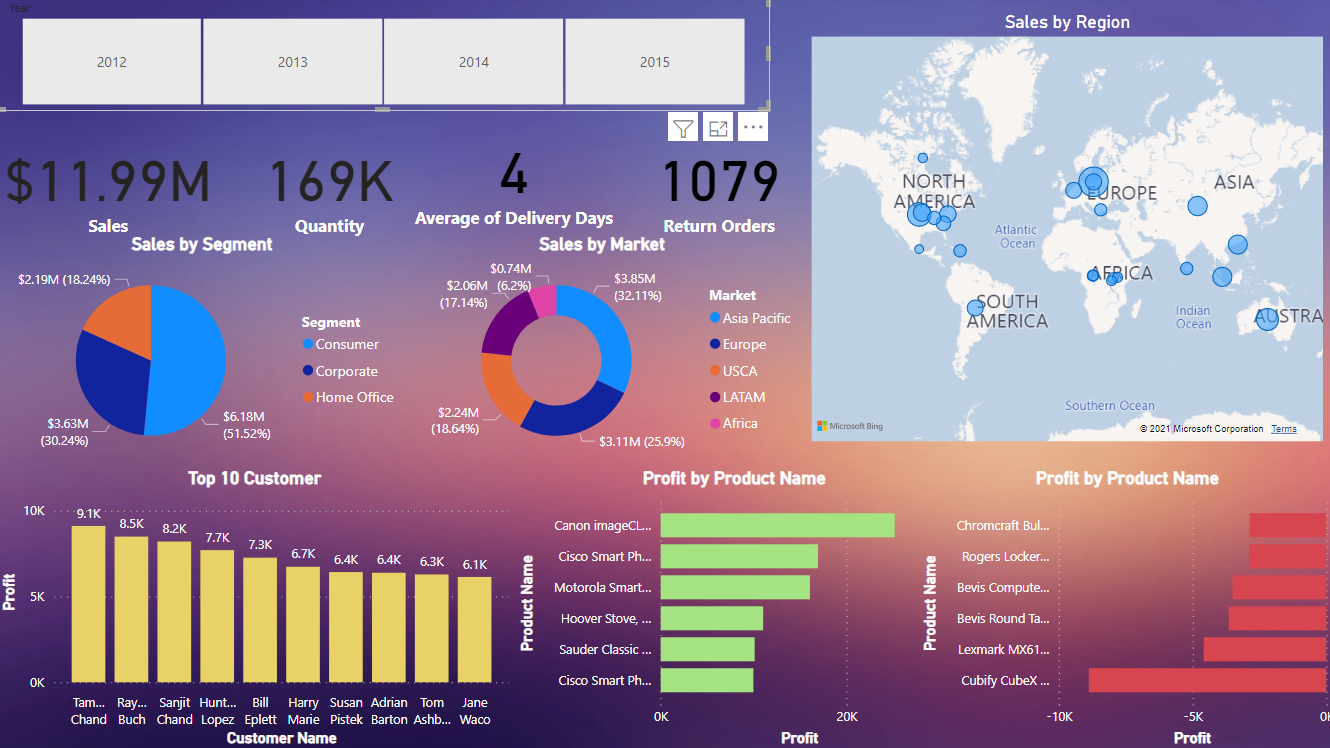

Layout of this report page (visuals, bound fields, positions):
{"tool":"powerbi","page":{"name":"Page 1","canvas":[1280,720],"ordinal":0},"visuals":[{"type":"card","fields":{"Values":["Orders.Sales"]},"box":[0,125,215.6,109.9],"z":0},{"type":"card","fields":{"Values":["Orders.Quantity"]},"box":[233.5,125,170.3,109.9],"z":1000},{"type":"card","fields":{"Values":["Orders.Delivery Days"]},"box":[394.2,111.2,200.5,123.6],"z":2000},{"type":"slicer","fields":{"Values":["Orders.Year"]},"box":[0,0,737.5,109.9],"z":3000},{"type":"card","fields":{"Values":["Returns.Return Orders"]},"box":[616.7,125,145.6,109.9],"z":4000},{"type":"map","fields":{"Size":["Orders.Sales"],"Category":["Orders.Region"]},"box":[771.8,13.7,497.2,414.8],"z":5000},{"type":"clusteredBarChart","fields":{"Y":["Orders.Profit"],"Category":["Orders.Product Name"]},"box":[494.4,449.1,420.3,270.6],"z":6000},{"type":"clusteredBarChart","fields":{"Y":["Orders.Profit"],"Category":["Orders.Product Name"]},"box":[877.6,449.1,402.4,270.6],"z":7000},{"type":"pieChart","fields":{"Category":["Orders.Segment"],"Y":["Orders.Sales"]},"box":[0,226.6,394.2,222.5],"z":8000},{"type":"donutChart","fields":{"Y":["Orders.Sales"],"Category":["Orders.Market"]},"box":[384.5,226.6,387.3,222.5],"z":8001},{"type":"clusteredColumnChart","title":"Top 10 Customer","fields":{"Y":["Orders.Profit"],"Category":["Orders.Customer Name"]},"box":[0,449.1,494.4,270.6],"z":8002}]}

Visuals, with their boxes in screenshot pixels (x1, y1, x2, y2), scaled from the page's 1280x720 canvas onto the 1330x748 screenshot:
card - Orders.Sales: l=0, t=130, r=224, b=244
card - Orders.Quantity: l=243, t=130, r=420, b=244
card - Orders.Delivery Days: l=410, t=116, r=618, b=244
slicer - Orders.Year: l=0, t=0, r=766, b=114
card - Returns.Return Orders: l=641, t=130, r=792, b=244
map - Orders.Sales x Orders.Region: l=802, t=14, r=1319, b=445
clusteredBarChart - Orders.Profit x Orders.Product Name: l=514, t=467, r=950, b=747
clusteredBarChart - Orders.Profit x Orders.Product Name: l=912, t=467, r=1329, b=747
pieChart - Orders.Segment x Orders.Sales: l=0, t=235, r=410, b=467
donutChart - Orders.Sales x Orders.Market: l=400, t=235, r=802, b=467
"Top 10 Customer" clusteredColumnChart: l=0, t=467, r=514, b=747
